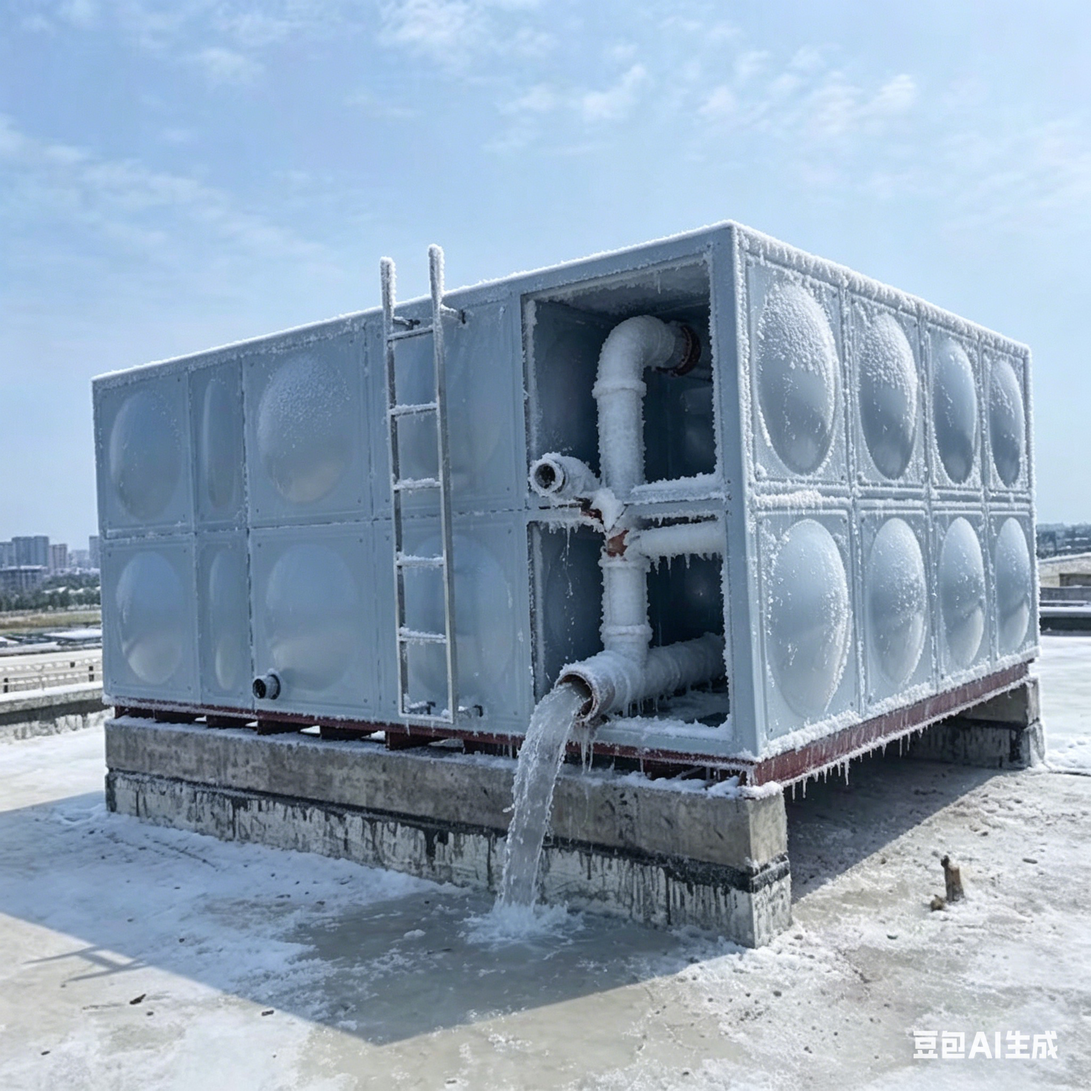Leakage: (483, 670, 588, 957)
